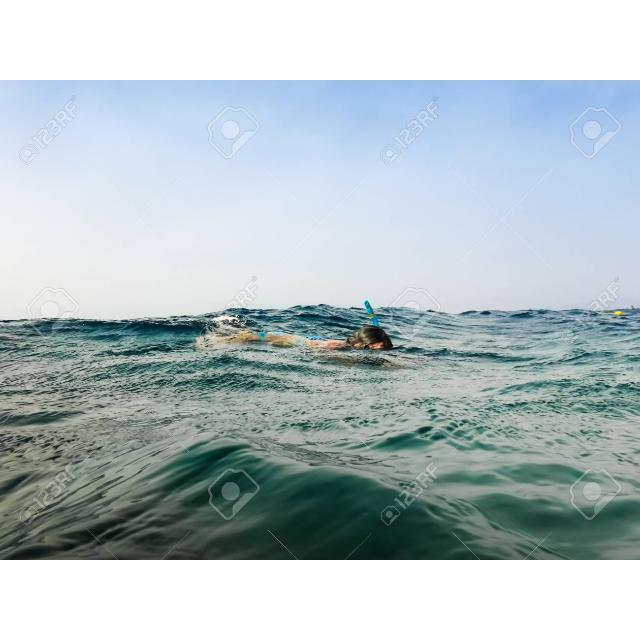human: (225, 300, 390, 350)
